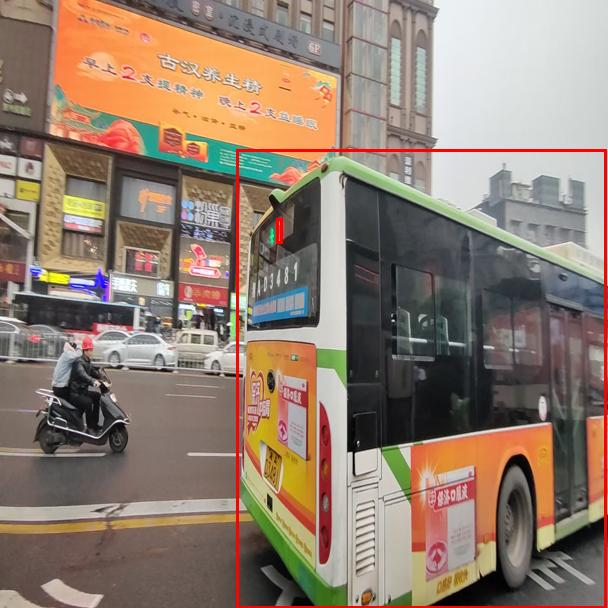bus: (236, 149, 606, 608)
screen: (276, 218, 282, 243)
